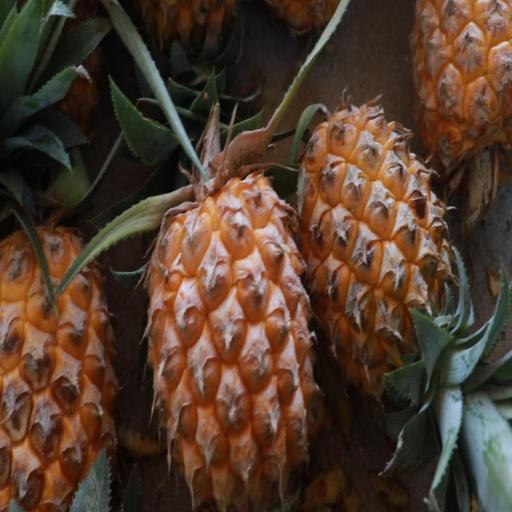Pineapple - v8 v1: (142, 111, 321, 509), (289, 98, 476, 432), (0, 190, 126, 511), (403, 0, 511, 232)
